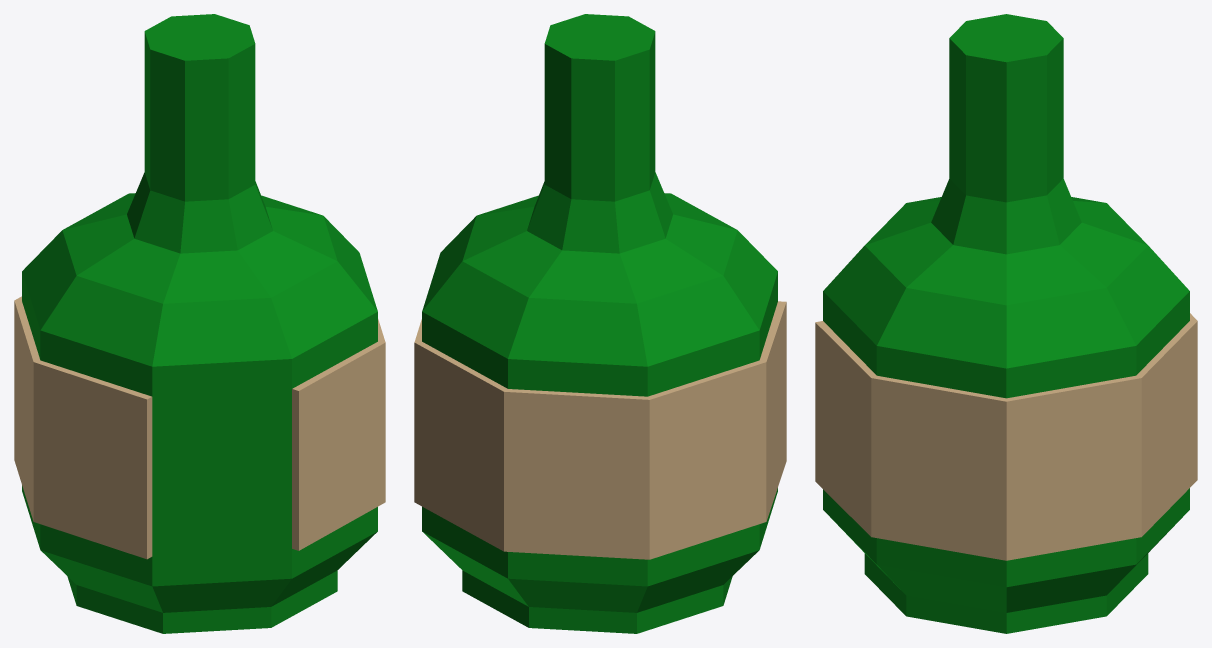
The model's file is Bottle1.fbx.
3 views of the same model, side by side, from view 1: azimuth 30°, elevation 25°; view 2: azimuth 150°, elevation 25°; view 3: azimuth 270°, elevation 25° (orthographic).
Visible parts, largest first — view 1: Bottle1; view 2: Bottle1; view 3: Bottle1.
Boxes of the visible parts, left/top/right/bottom form: Bottle1: left=14, top=14, right=385, bottom=633; Bottle1: left=414, top=14, right=786, bottom=633; Bottle1: left=815, top=14, right=1197, bottom=633.
Bounding box in the file's own units: 0.2698 × 0.417 × 0.2698.
